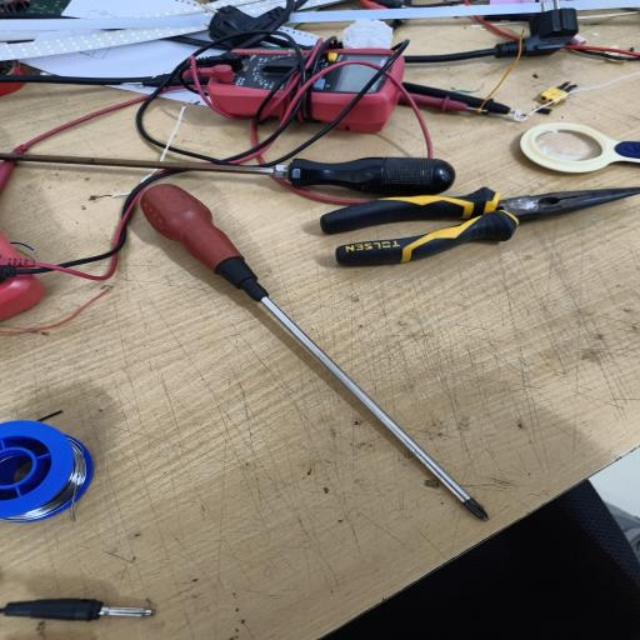screwdriver: (138, 182, 492, 524)
